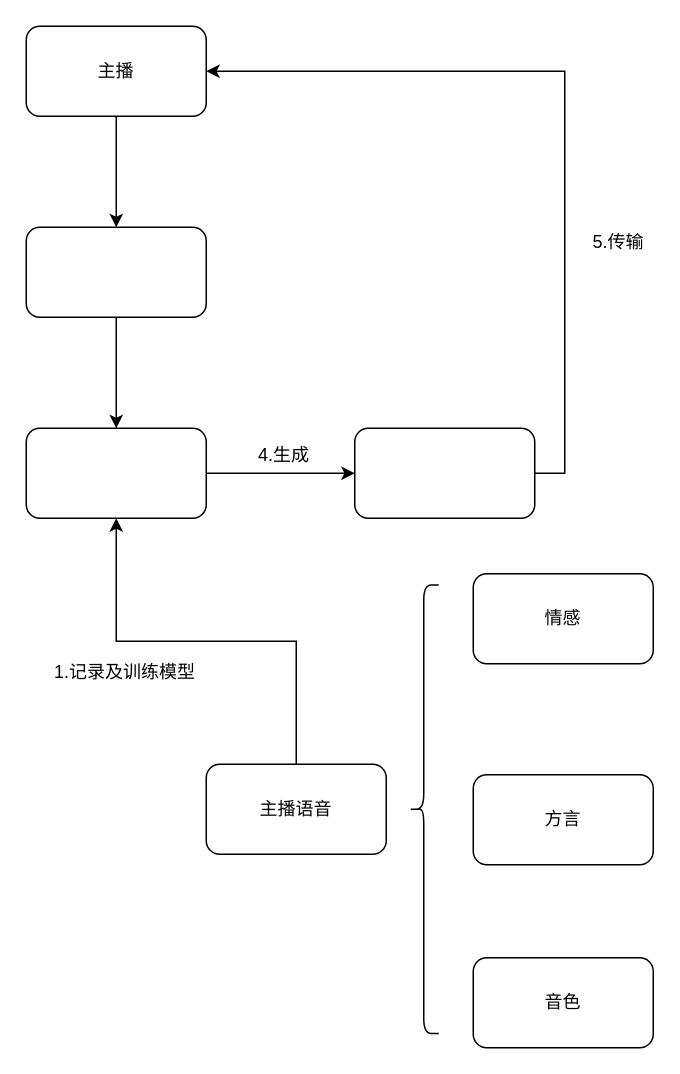
Image size: 680x1074. Some labels were removed from this diagram. Here are the shapes that lost their labels. From the top down, the centre of each, then its label:
At (115,271): "2.公屏问题".
At (115,472): "服务器 3.判断是否有答案".
At (444,472): "模拟直播流".
